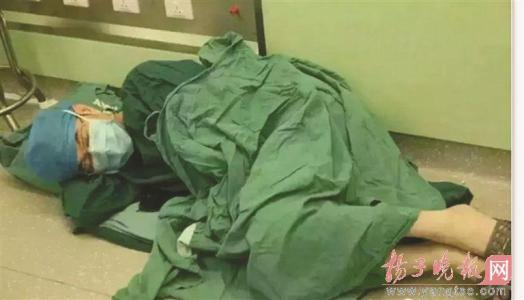down: (14, 29, 524, 300)
